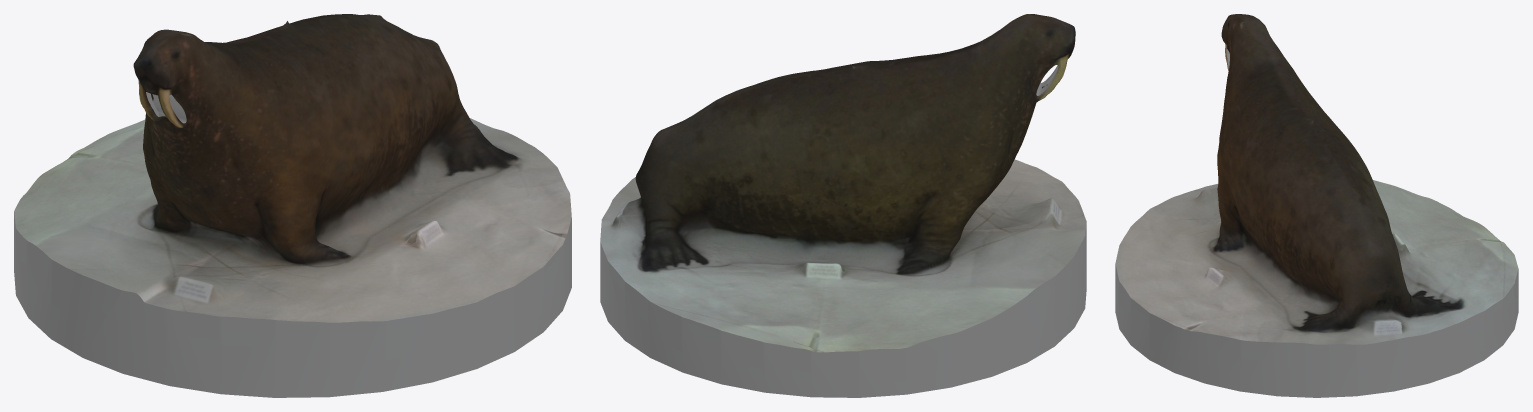
Rendered from walrus_horniman_museum_and_gardens.glb.
3 views of the same model, side by side, from view 1: azimuth 30°, elevation 25°; view 2: azimuth 150°, elevation 25°; view 3: azimuth 270°, elevation 25° (orthographic). The views are drawn at different scales.
Visible parts, largest first — view 1: Object_3, Object_2, Object_4, Object_5; view 2: Object_4, Object_3, Object_2, Object_5; view 3: Object_3, Object_4, Object_2, Object_5.
Part boxes in pixels (x1,y1,x2,y2): Object_3: [14, 19, 571, 322]; Object_2: [14, 92, 571, 397]; Object_4: [27, 14, 402, 321]; Object_5: [26, 143, 416, 243]; Object_4: [617, 14, 1086, 347]; Object_3: [600, 14, 1086, 348]; Object_2: [600, 65, 1086, 397]; Object_5: [788, 264, 898, 352]; Object_3: [1115, 14, 1472, 344]; Object_4: [1127, 14, 1518, 315]; Object_2: [1115, 49, 1518, 397]; Object_5: [1215, 216, 1506, 269].
Bounding box in the file's own units: 21.77 × 13.92 × 21.77.
4 materials, 4 textured.
